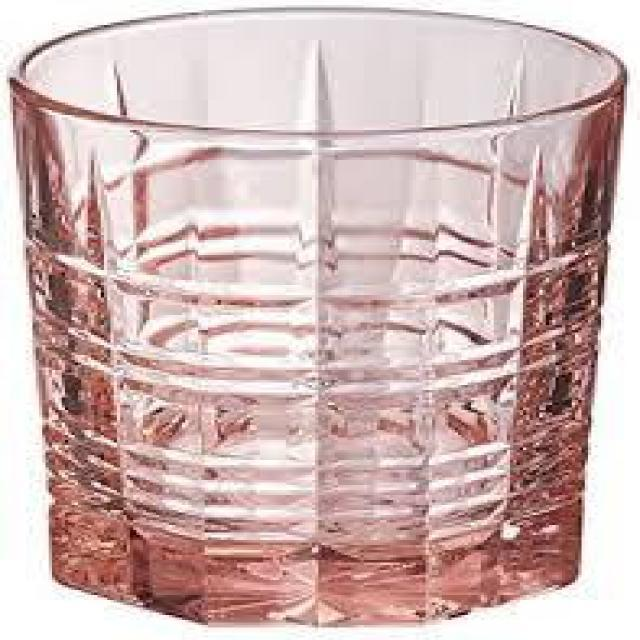Glass: (6, 1, 634, 632)
